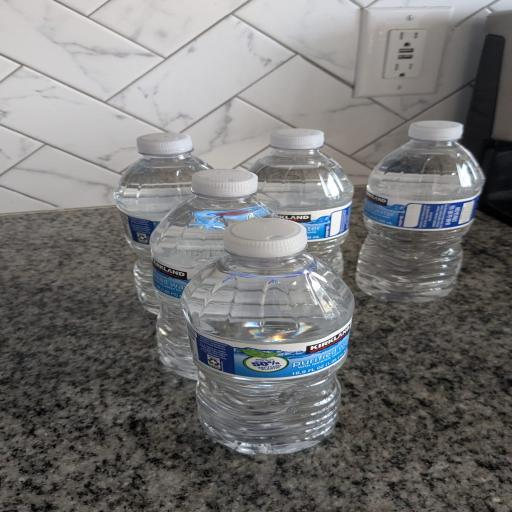waterbottle: (182, 219, 353, 453), (151, 170, 275, 378), (356, 121, 484, 302), (115, 133, 209, 313), (250, 129, 353, 275)
